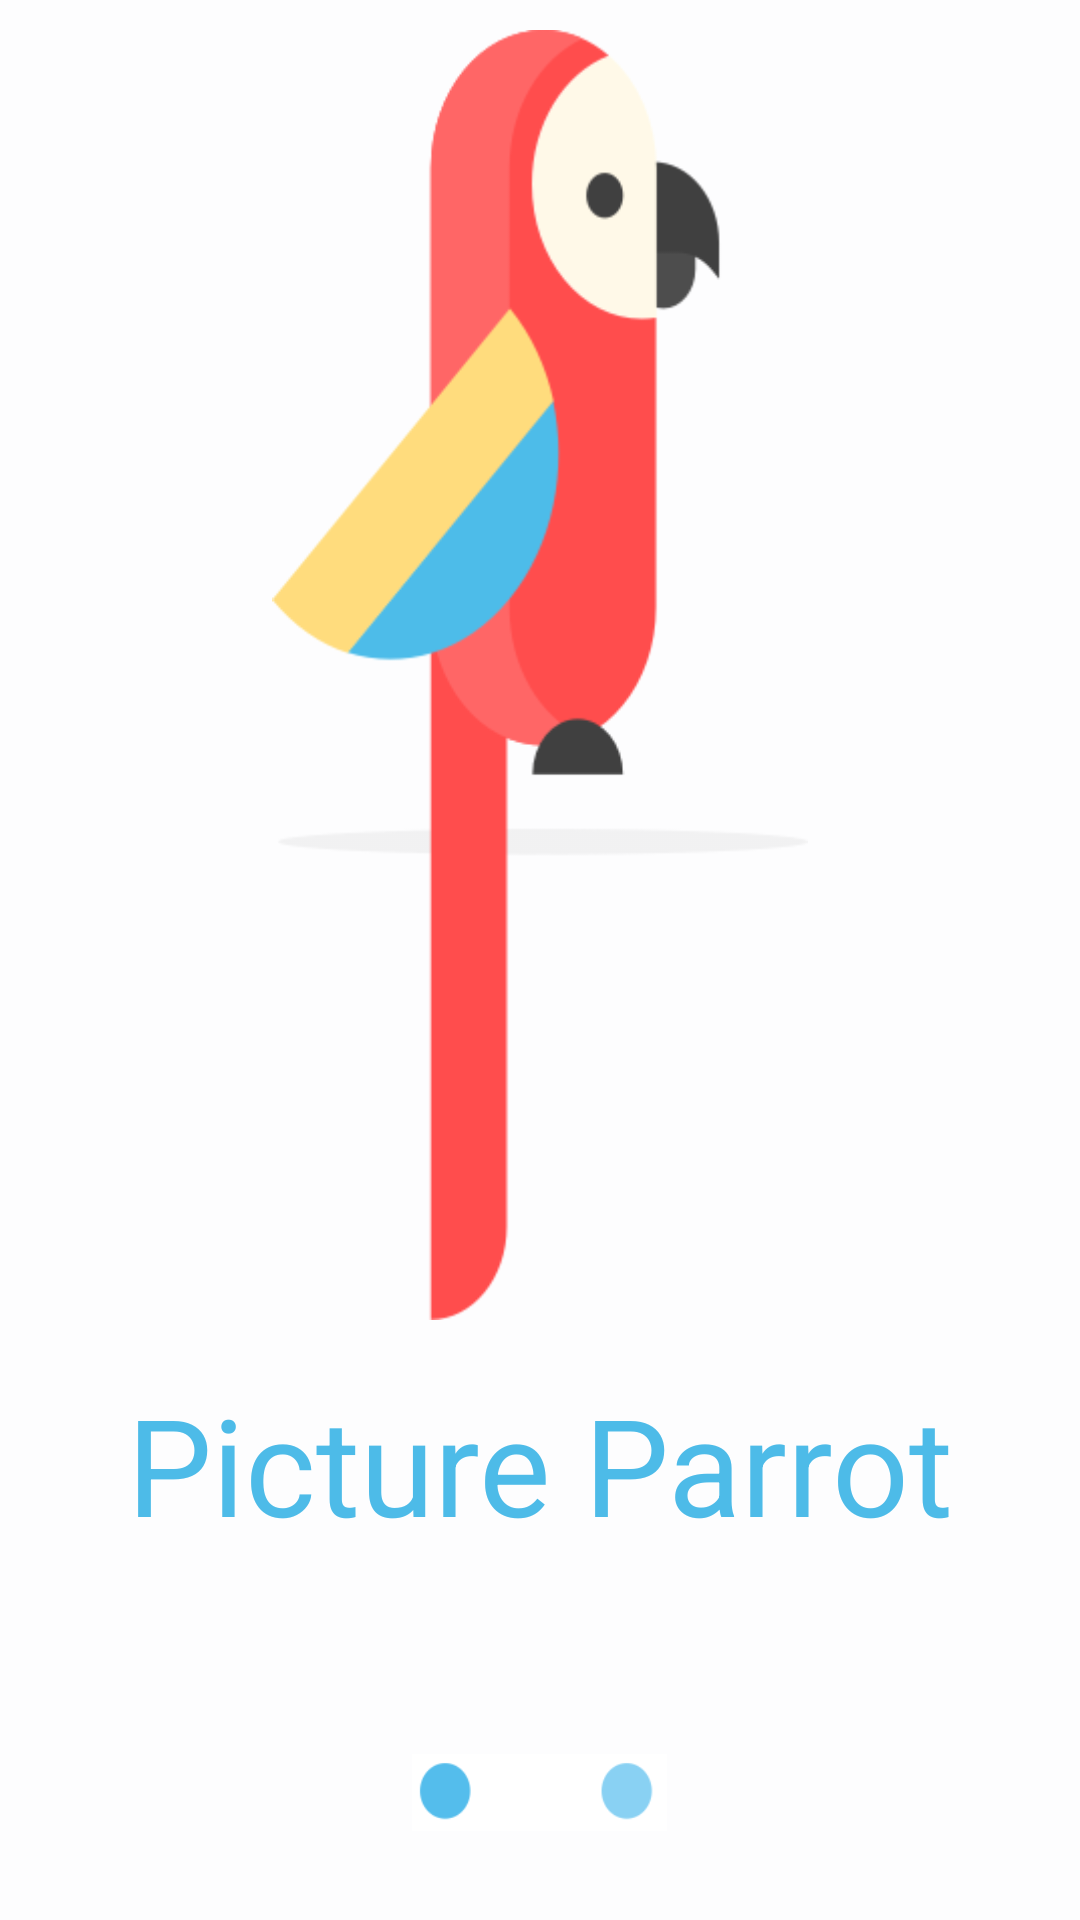

Where to tap for icons on this 1080px×1920px app screen, as [x,y]:
first view dots: [536,1791]
